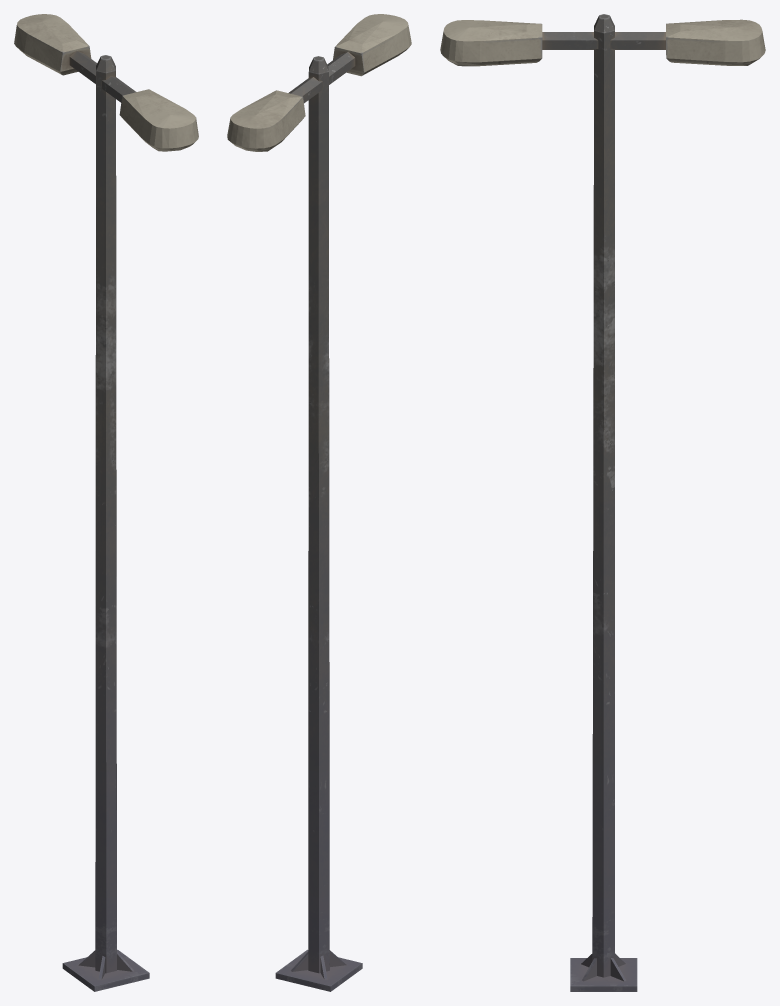
File: TWO FACE LIGHT POLE.fbx
The picture shows the model from 3 angles, left to right: view 1: azimuth 30°, elevation 25°; view 2: azimuth 150°, elevation 25°; view 3: azimuth 270°, elevation 25°; orthographic projection. The views are drawn at different scales.
Parts seen in each view (by area): view 1: TWO_FACE_LIGHT_POLE; view 2: TWO_FACE_LIGHT_POLE; view 3: TWO_FACE_LIGHT_POLE.
Part boxes in pixels (x1,y1,x2,y2): TWO_FACE_LIGHT_POLE: (14, 14, 198, 991); TWO_FACE_LIGHT_POLE: (227, 14, 411, 991); TWO_FACE_LIGHT_POLE: (440, 14, 765, 991).
Size of the model in its own units: 0.2829 by 4.49 by 1.38.
Materials: 1 (1 with a texture image).
